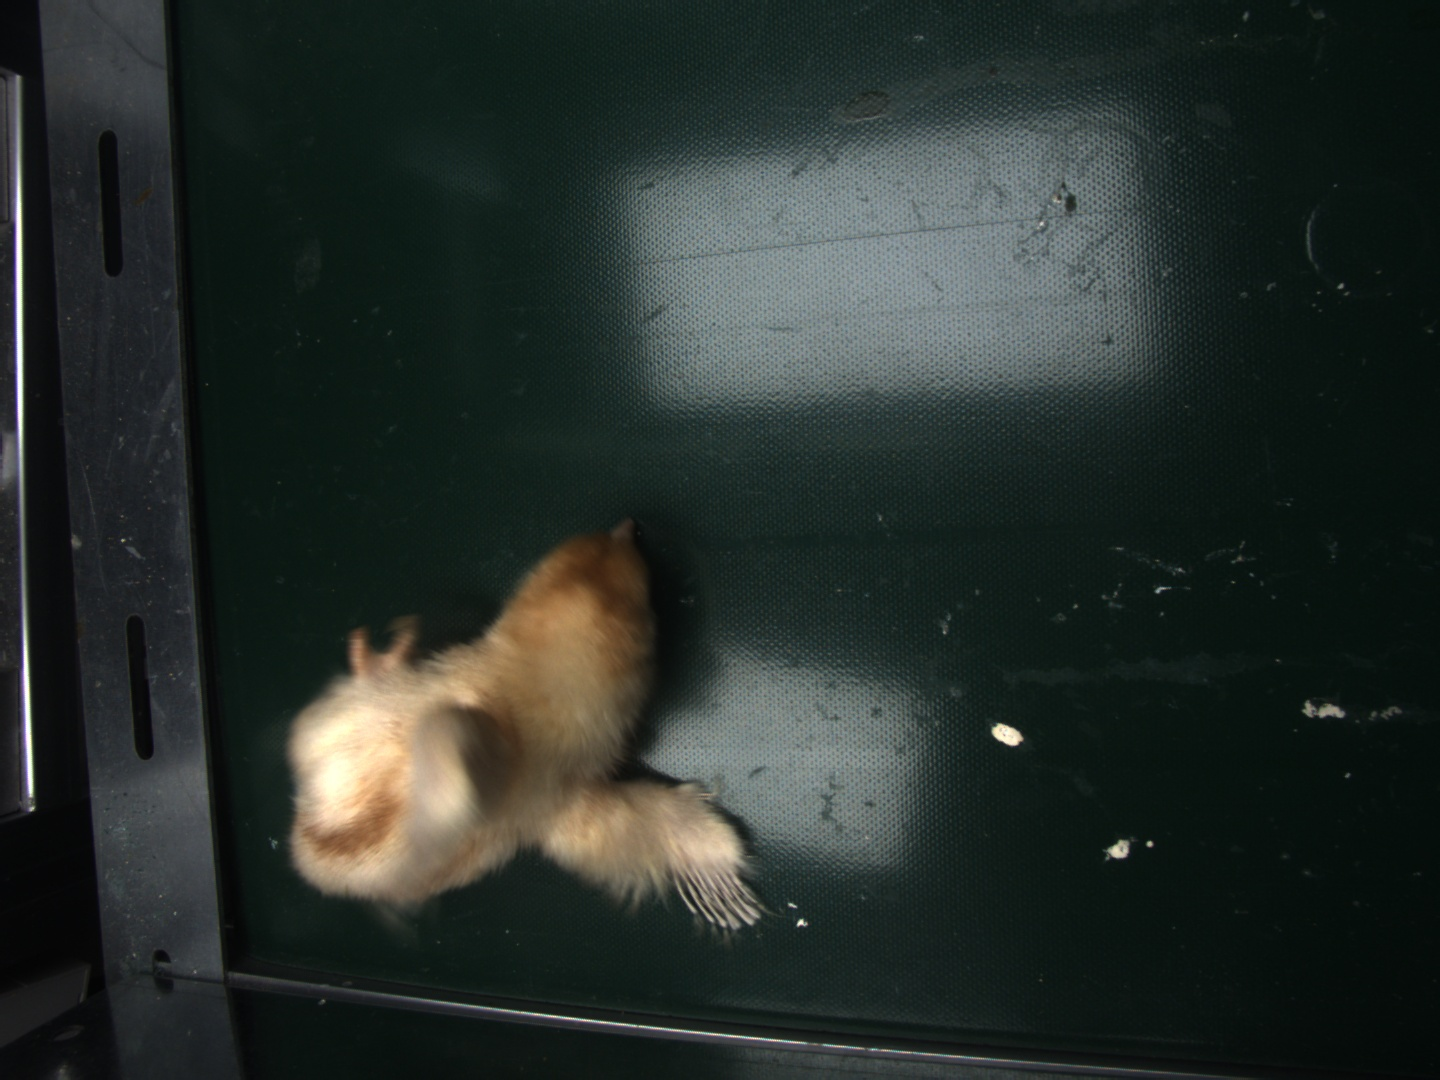female: (676, 864, 761, 927)
